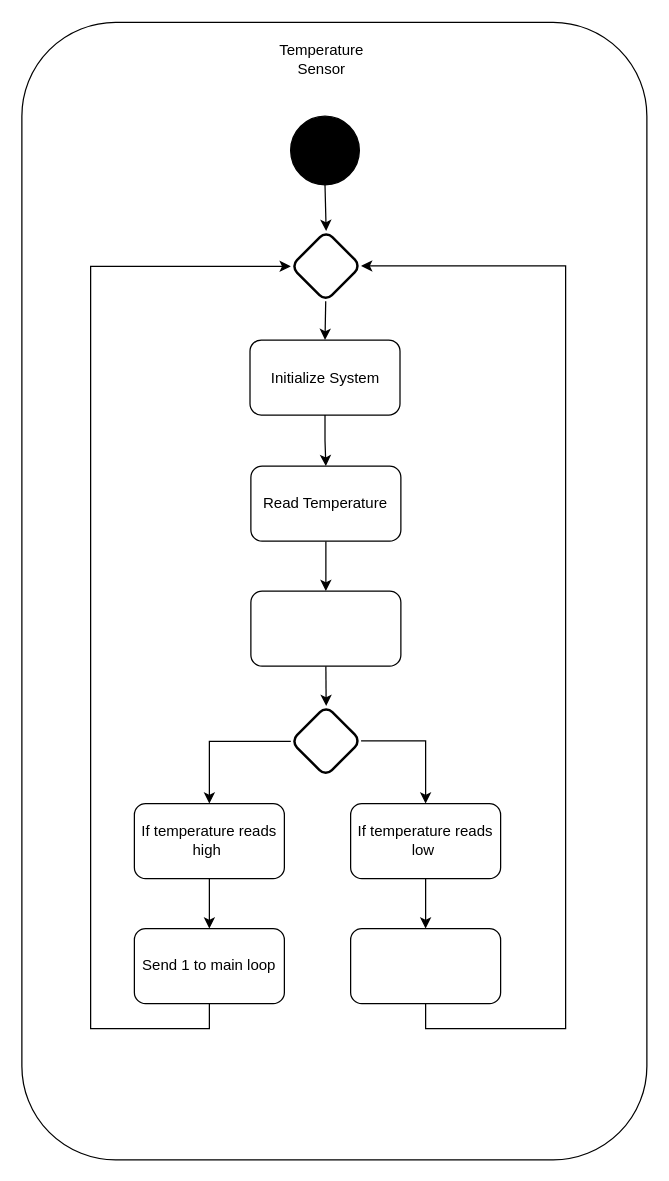
The diagram is 669 pixels wide and 1181 high, and some of its shapes have lost their labels. The centre of each missing label's shape, as x and y in pixels:
"Display Temperature" belongs at pixel 325 628.
"Send 0 to main loop" belongs at pixel 425 965.
